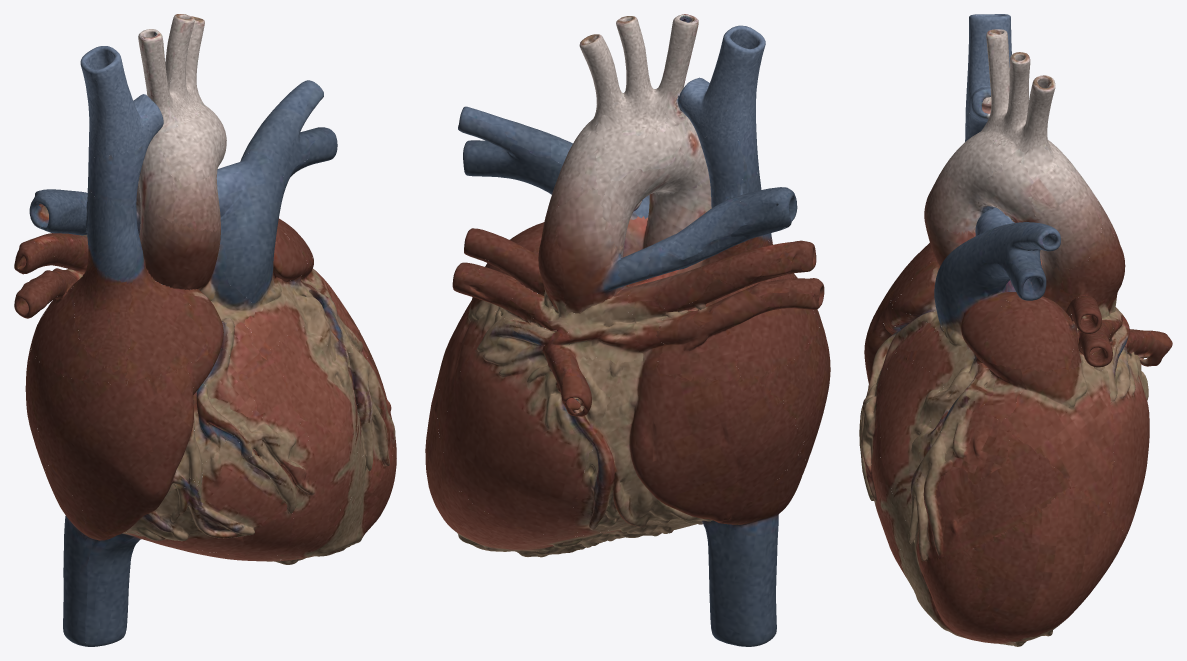
File: corazon.glb
The picture shows the model from 3 angles, left to right: view 1: azimuth 30°, elevation 25°; view 2: azimuth 150°, elevation 25°; view 3: azimuth 270°, elevation 25°; orthographic projection. The views are drawn at different scales.
Parts seen in each view (by area): view 1: Corazon; view 2: Corazon; view 3: Corazon.
Part boxes in pixels (x1,y1,x2,y2): Corazon: (14,14,396,646); Corazon: (425,14,830,646); Corazon: (859,14,1172,646).
Bounding box in the file's own units: 0.1009 × 0.155 × 0.0778.
Materials: 1 (1 with a texture image).
